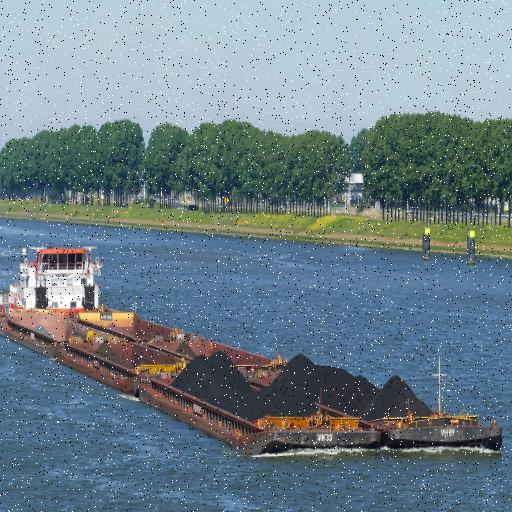tugboat: (1, 240, 120, 367)
